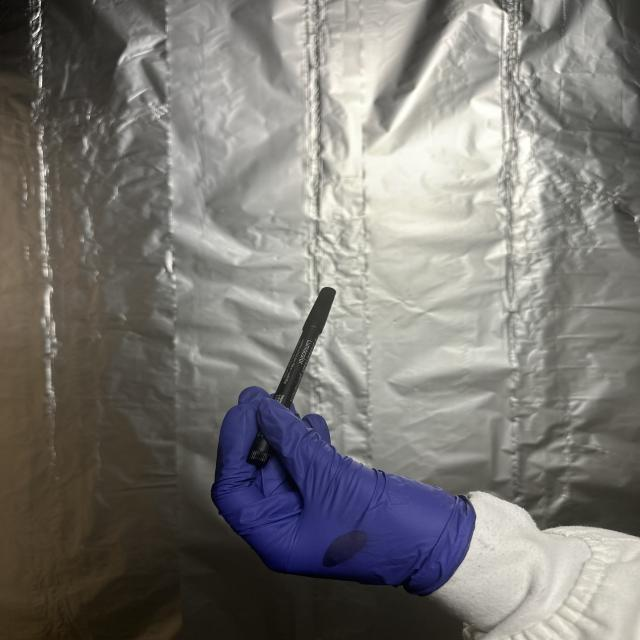gloves_contaminated: (212, 397, 475, 595)
